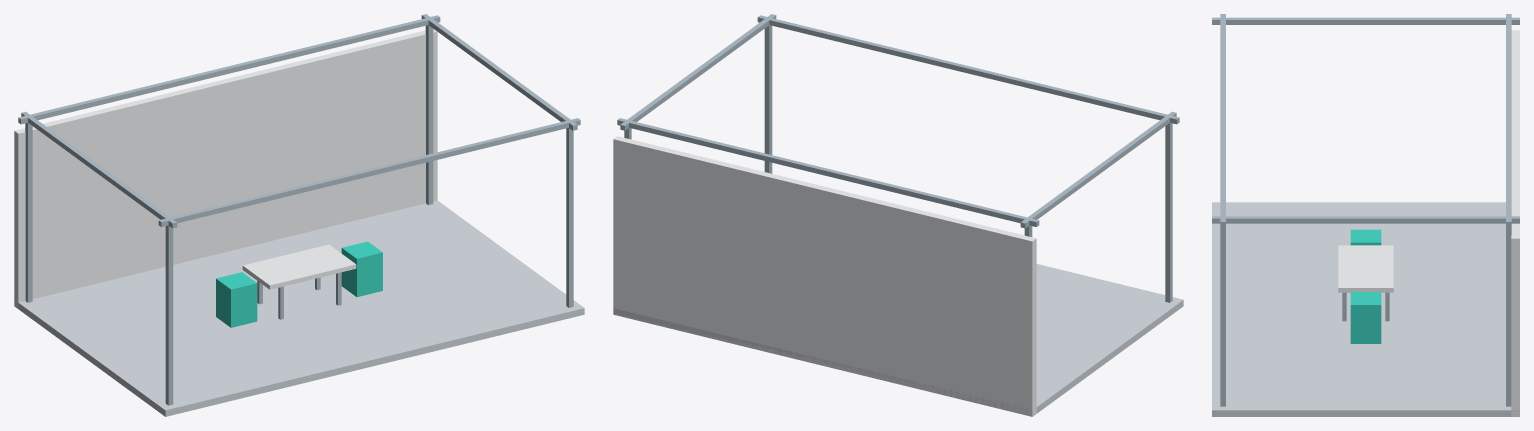
The picture shows the model from 3 angles, left to right: view 1: azimuth 30°, elevation 25°; view 2: azimuth 150°, elevation 25°; view 3: azimuth 270°, elevation 25°; orthographic projection.
Parts seen in each view (by area): view 1: Exhibition Booth Concept; view 2: Exhibition Booth Concept; view 3: Exhibition Booth Concept.
Part boxes in pixels (x1,y1,x2,y2): Exhibition Booth Concept: [14, 14, 584, 416]; Exhibition Booth Concept: [613, 14, 1183, 416]; Exhibition Booth Concept: [1212, 14, 1519, 416].
Size of the model in its own units: 8 by 3.49 by 5.
